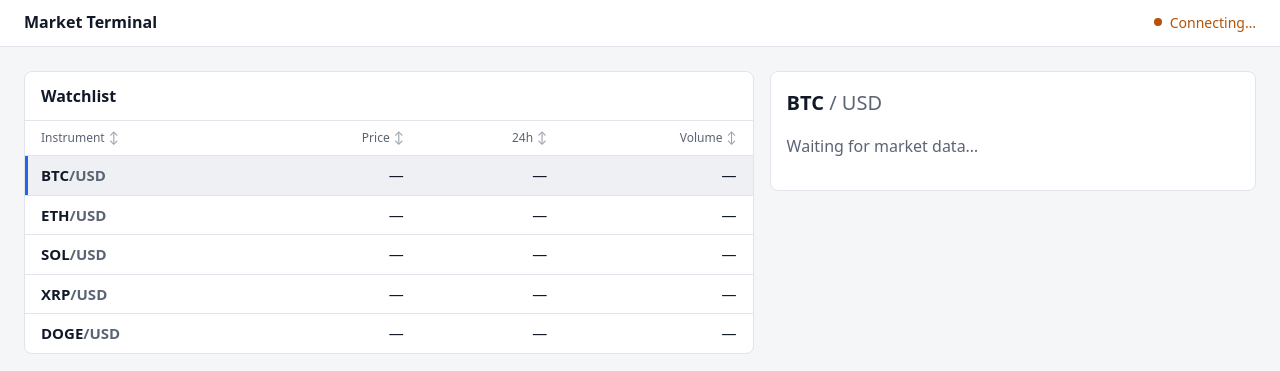
Scenario: TerminalPage › puts the selected instrument in the URL, as a new history entry
Step 1. Click the button "XRP/USD" → (74, 294), box 41,282 -> 107,305
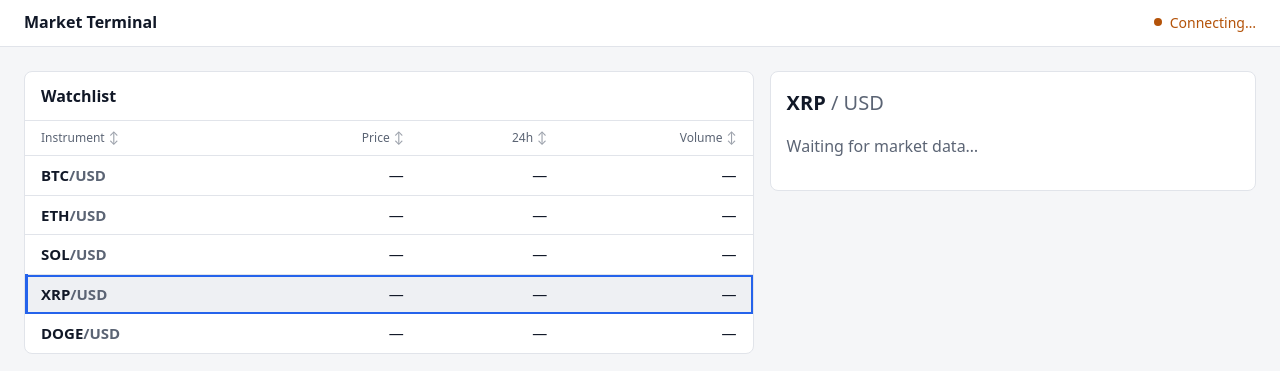
Expected: the heading "XRP / USD" is shown, 787,89 -> 884,116
